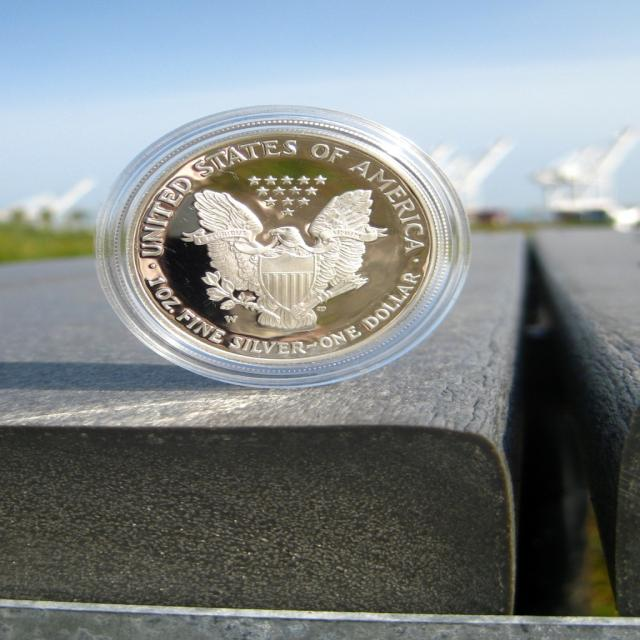Coin: (127, 125, 437, 355)
